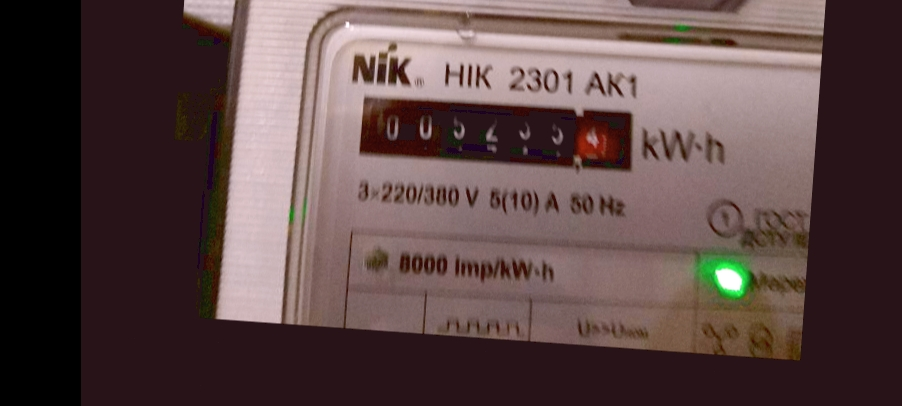0: (413, 108, 436, 143), (381, 110, 401, 142)
2: (479, 110, 503, 145)
3: (511, 110, 538, 145)
4: (580, 115, 605, 153)
5: (545, 112, 570, 149), (447, 109, 469, 143)
screen: (340, 78, 648, 187)
